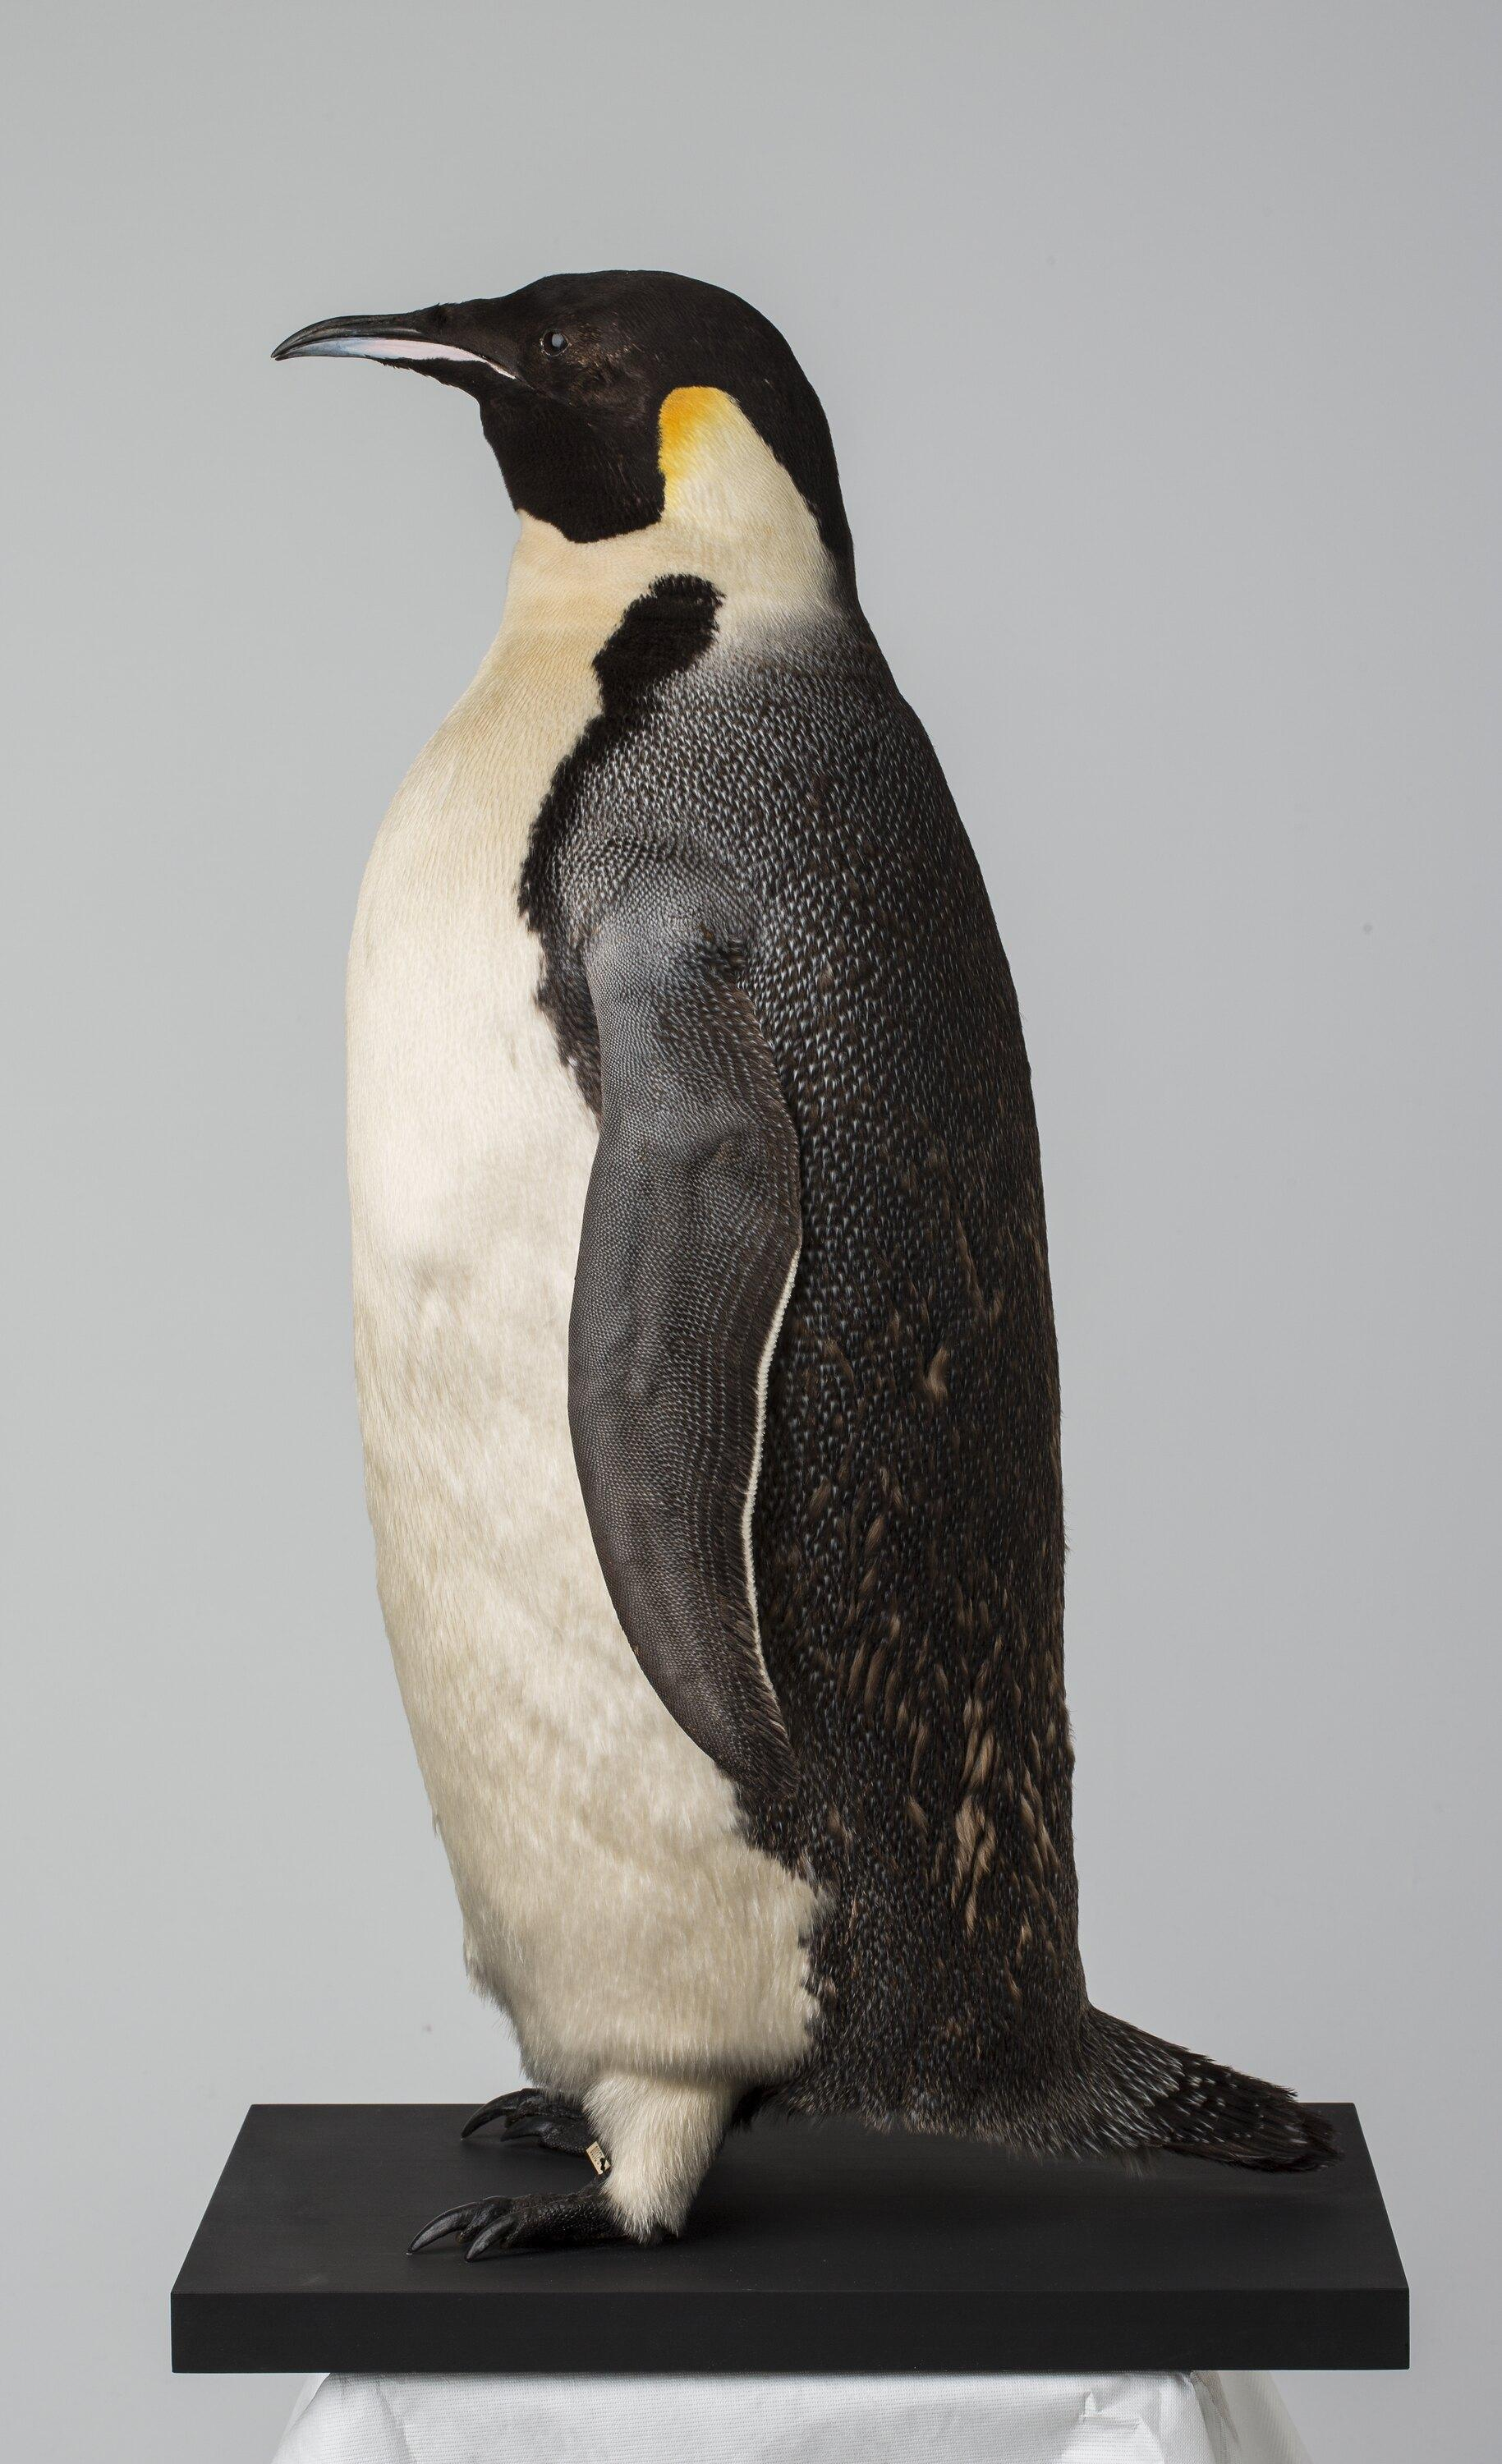emporer: (171, 209, 1361, 2327)
